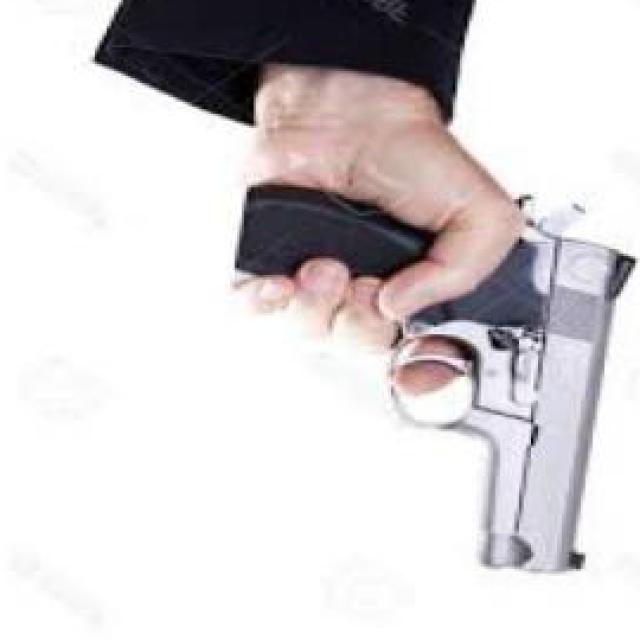pistol: (223, 178, 640, 590)
